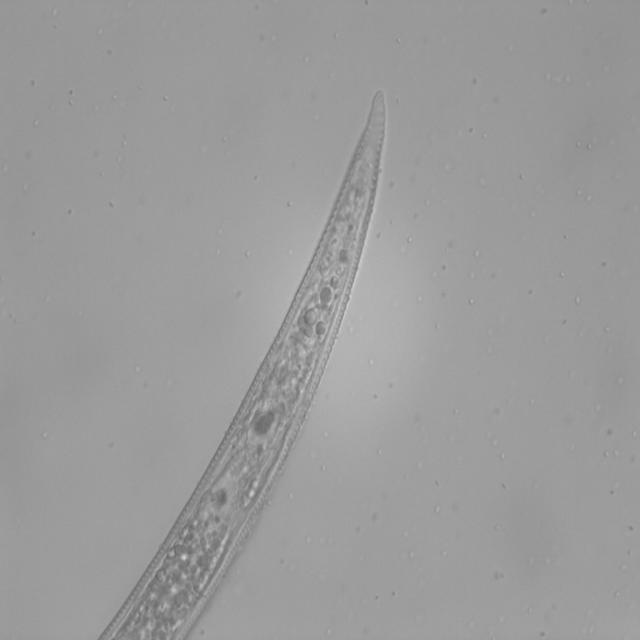Radopholus: (88, 81, 399, 640)
